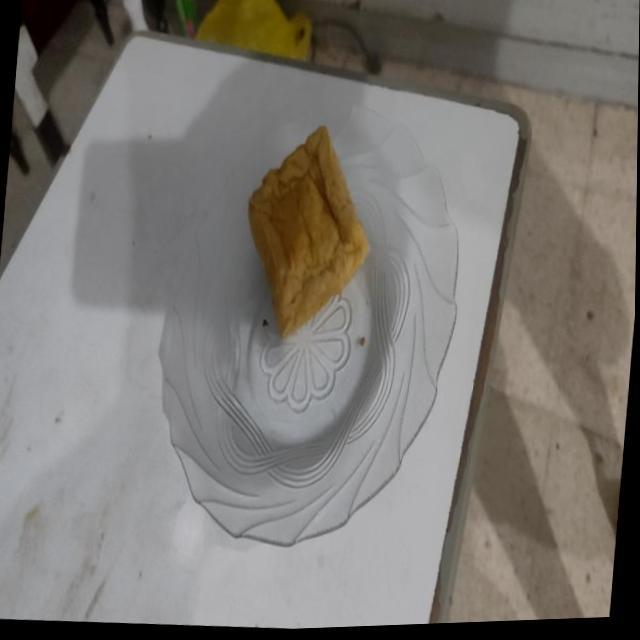tahu_goreng: (248, 126, 369, 337)
